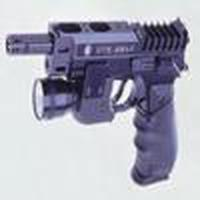gun: (1, 17, 194, 199)
